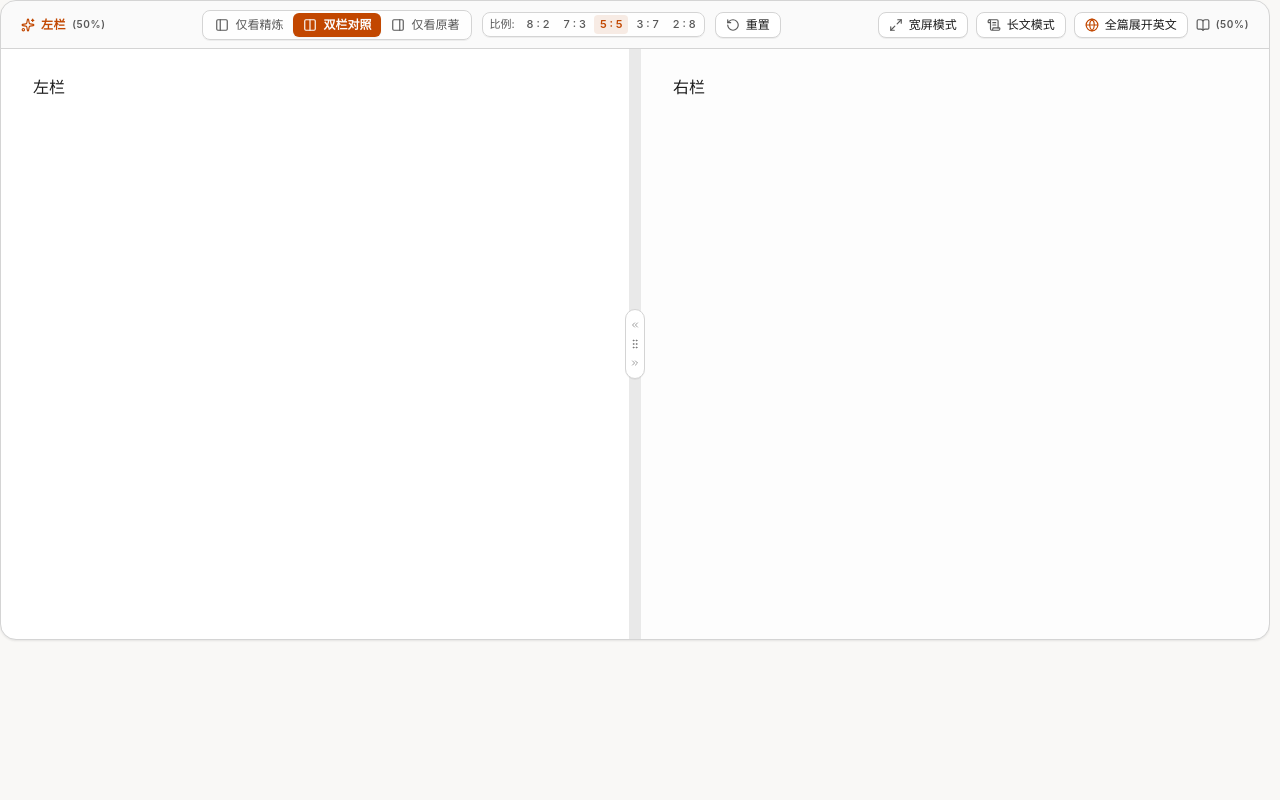
Test case: SplitReader 双栏独立滚动组件 › 分割线支持双击重置为 50:50，并支持点击折叠按钮快速切换单栏
The image size is (1280, 800).
# 先点击 7:3 调整比例
Click the button "7 : 3" at coordinates (575, 25), box [558,15,592,34]
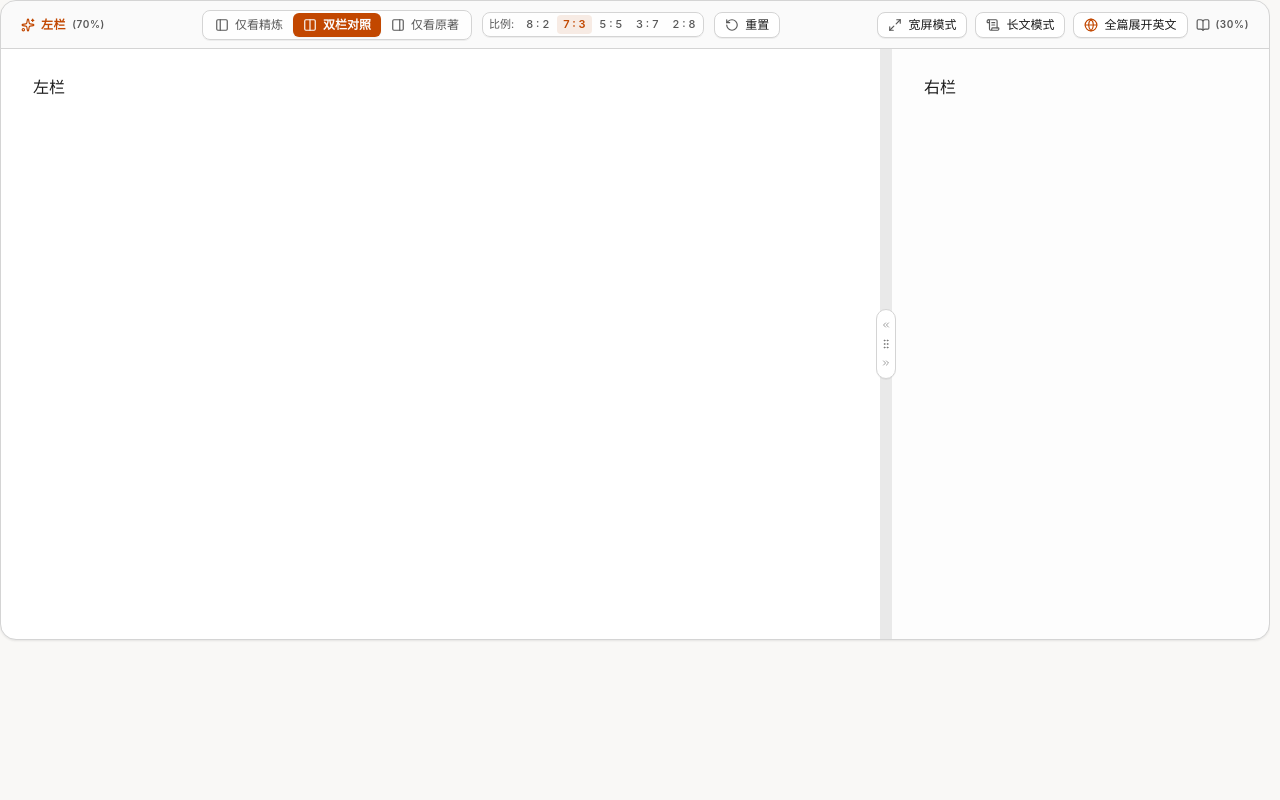
# 双击分割线复位为 50:50
Double-click the element named "拖拽调整左右栏宽度" at coordinates (886, 344), box [880,49,892,639]
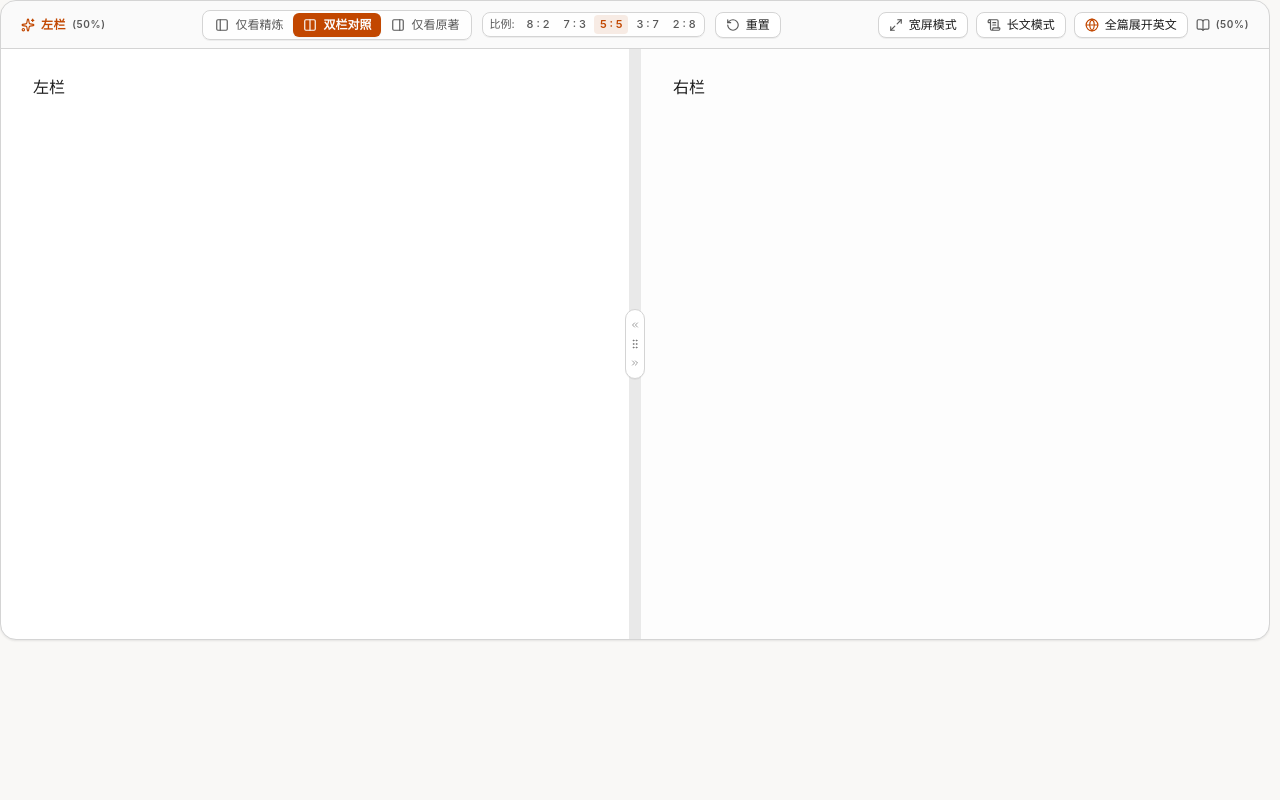
# 点击分割线上的「折叠左栏 / 仅看原著」快捷按钮
Click the button titled "折叠左栏，仅看原著" at coordinates (635, 325), box [628,318,642,332]
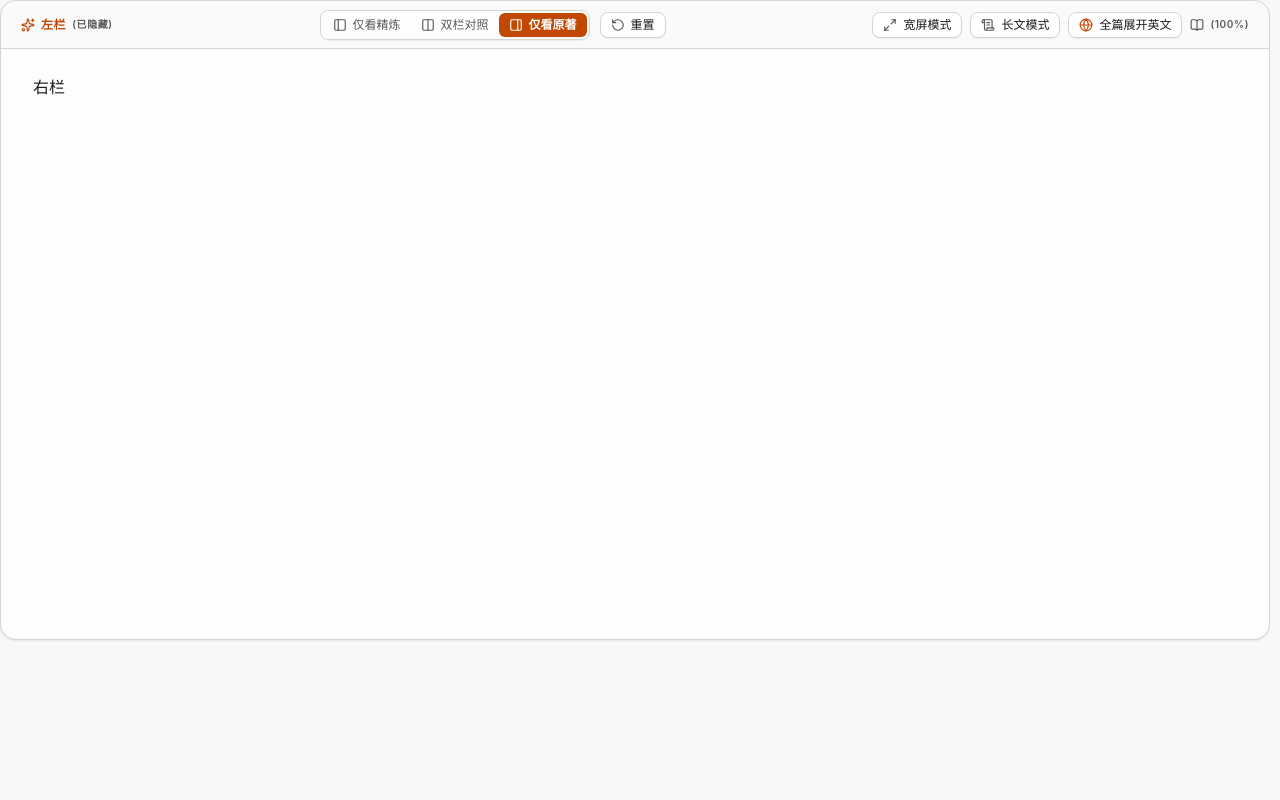
# 切回双栏并测试「折叠右栏 / 仅看精炼」快捷按钮
Click the button "双栏对照" at coordinates (454, 24), box [410,12,498,36]
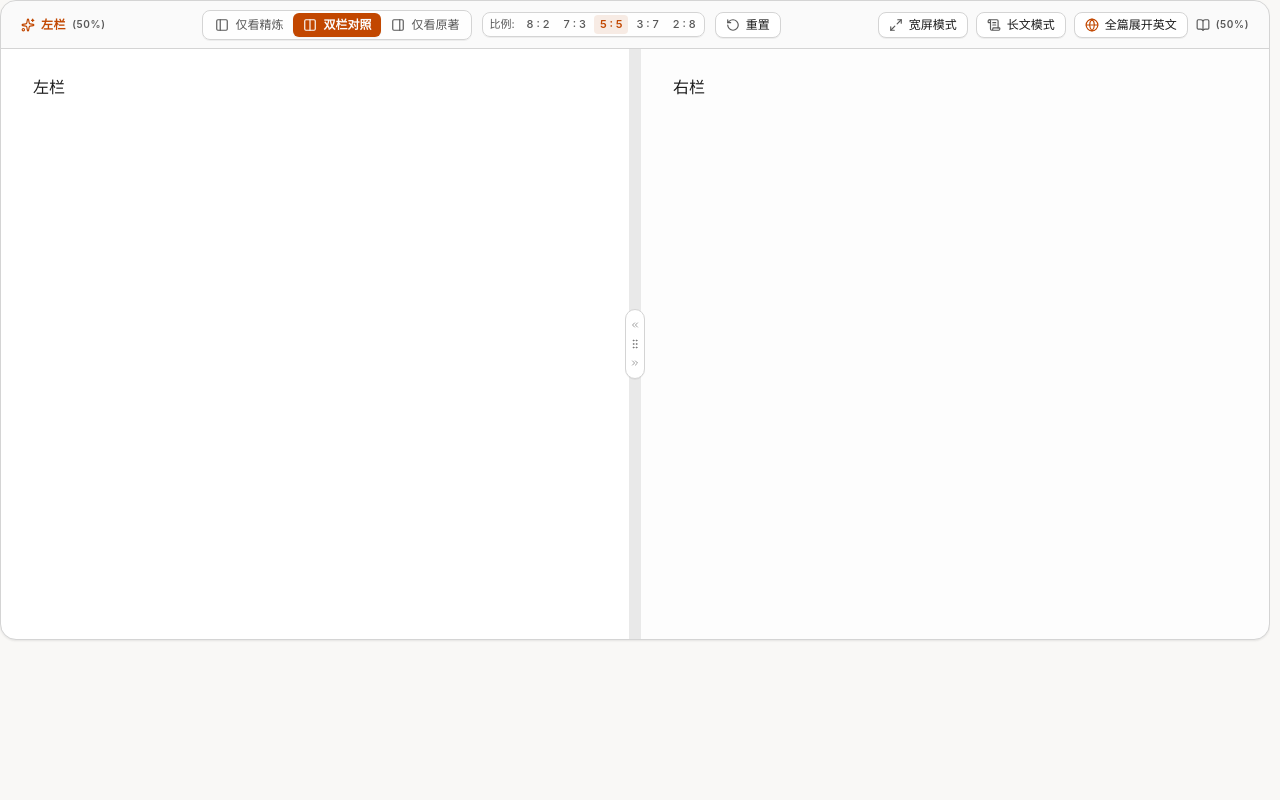
Click the button titled "折叠右栏，仅看精炼" at coordinates (635, 363), box [628,356,642,370]
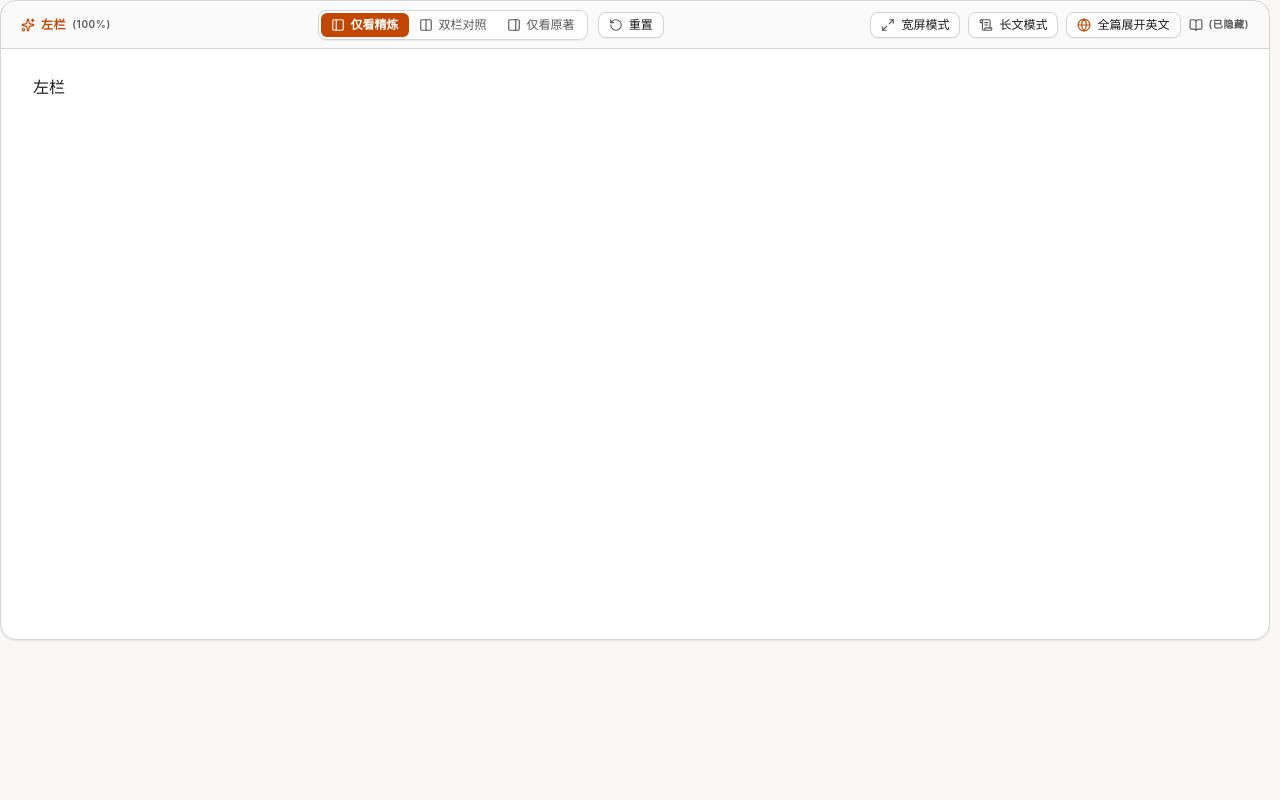
Expected: the text "右栏" is gone
